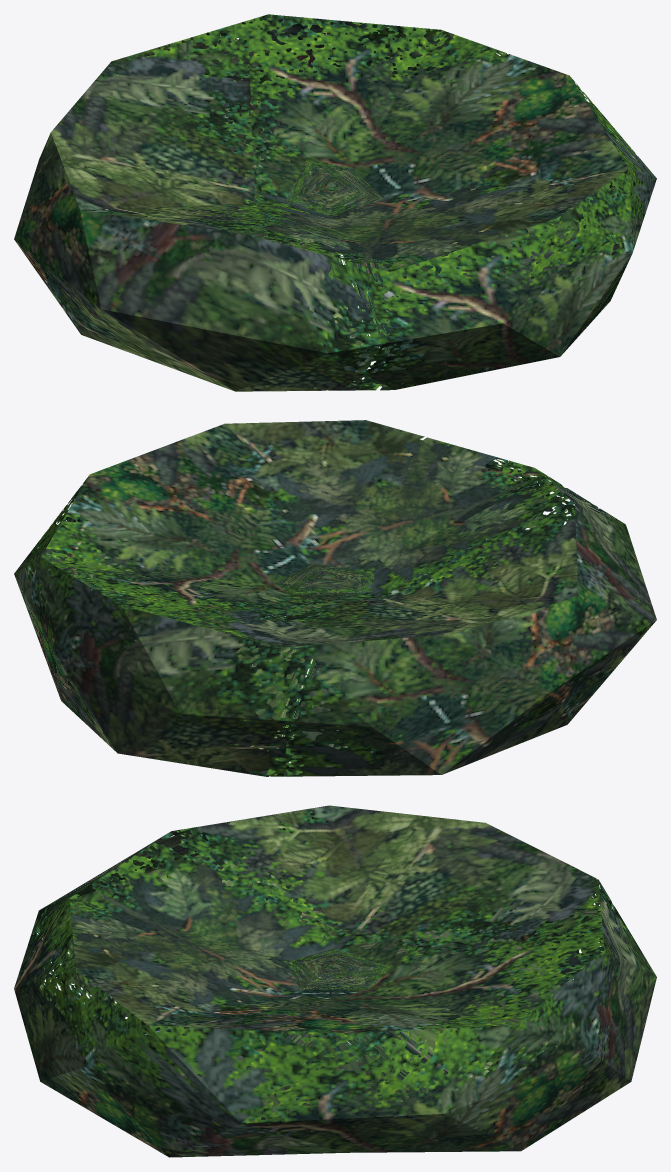
Rendered from MTree_2_Bch_1.gltf.
The picture shows the model from 3 angles, top to bottom: view 1: azimuth 30°, elevation 25°; view 2: azimuth 150°, elevation 25°; view 3: azimuth 270°, elevation 25°; orthographic projection. The views are drawn at different scales.
Visible parts, largest first — view 1: MTree_2_Bch_1; view 2: MTree_2_Bch_1; view 3: MTree_2_Bch_1.
Part boxes in pixels (<box>): MTree_2_Bch_1: <box>14,14,656,391</box>; MTree_2_Bch_1: <box>14,420,656,776</box>; MTree_2_Bch_1: <box>14,805,656,1157</box>.
Size of the model in its own units: 12.83 by 3.41 by 12.99.
Materials: 1 (1 with a texture image).
